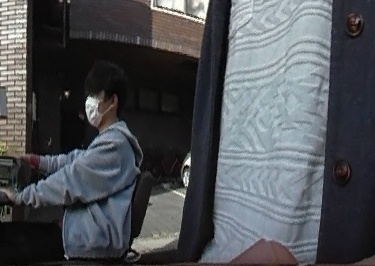person: (1, 63, 140, 266)
